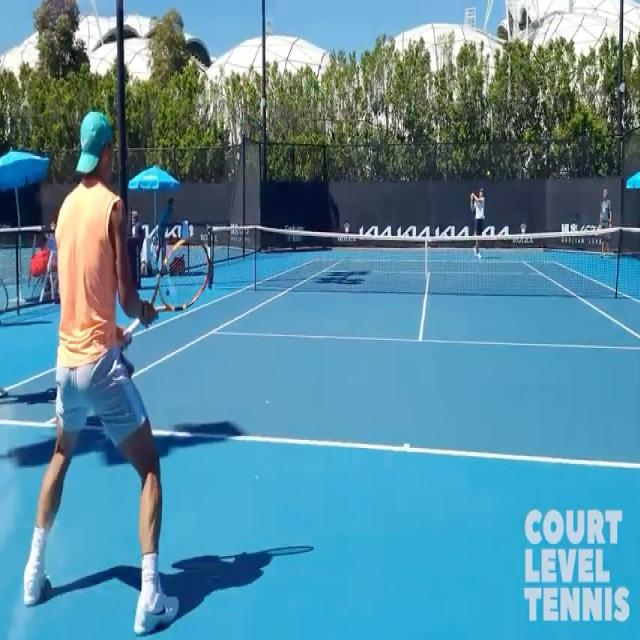ready-position: (25, 112, 212, 635)
